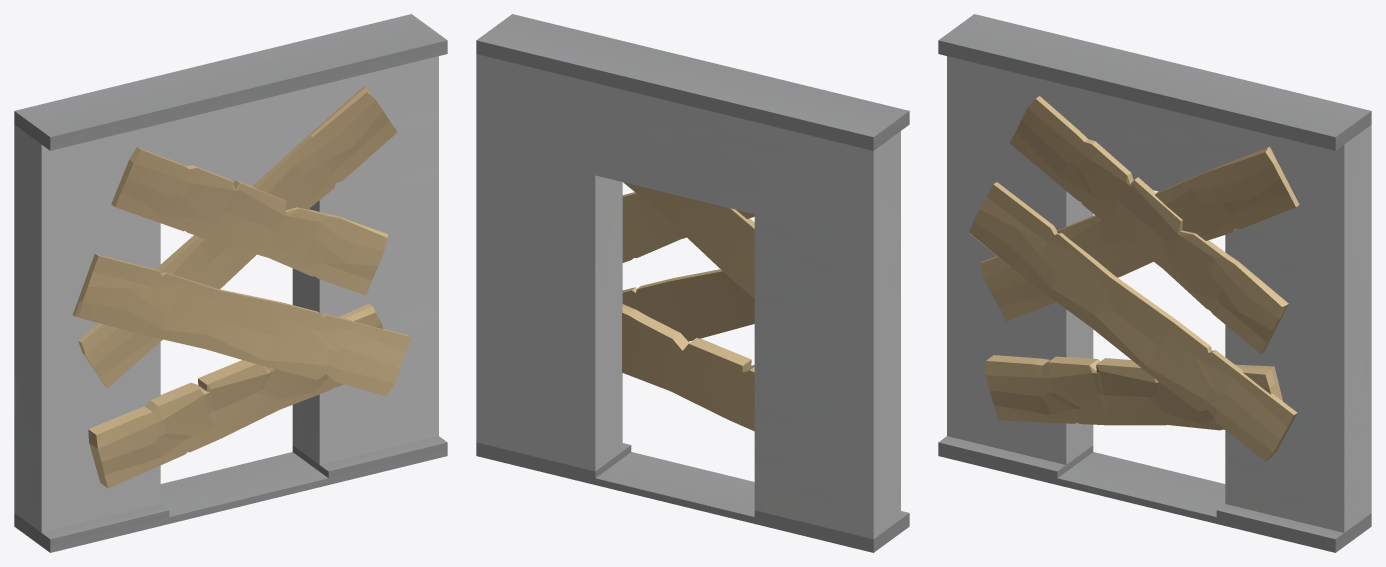
The model's file is wall_1_door_boarded.glb.
3 renders of one model, left to right at view 1: azimuth 30°, elevation 25°; view 2: azimuth 150°, elevation 25°; view 3: azimuth 330°, elevation 25°, orthographic.
Parts seen in each view (by area): view 1: wall_1_door, board_4, board_3, board_2, board_1; view 2: wall_1_door, board_2, board_4, board_1, board_3; view 3: wall_1_door, board_4, board_3, board_2, board_1.
Part boxes in pixels (x1,y1,x2,y2): wall_1_door: [14, 14, 447, 552]; board_4: [72, 254, 411, 396]; board_3: [111, 147, 387, 295]; board_2: [88, 304, 382, 488]; board_1: [78, 86, 397, 387]; wall_1_door: [476, 14, 909, 552]; board_2: [622, 304, 754, 431]; board_4: [622, 269, 754, 341]; board_1: [623, 182, 754, 298]; board_3: [622, 192, 754, 262]; wall_1_door: [938, 14, 1371, 552]; board_4: [968, 182, 1297, 461]; board_3: [1010, 96, 1288, 353]; board_2: [985, 355, 1282, 430]; board_1: [980, 146, 1299, 321].
Size of the model in its own units: 2 by 2 by 0.3559.
1 material, 1 textured.
